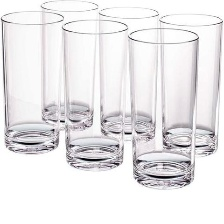glass: (125, 21, 198, 193), (58, 10, 124, 175), (157, 9, 224, 157), (0, 9, 63, 157), (95, 5, 161, 146), (35, 0, 102, 131)
